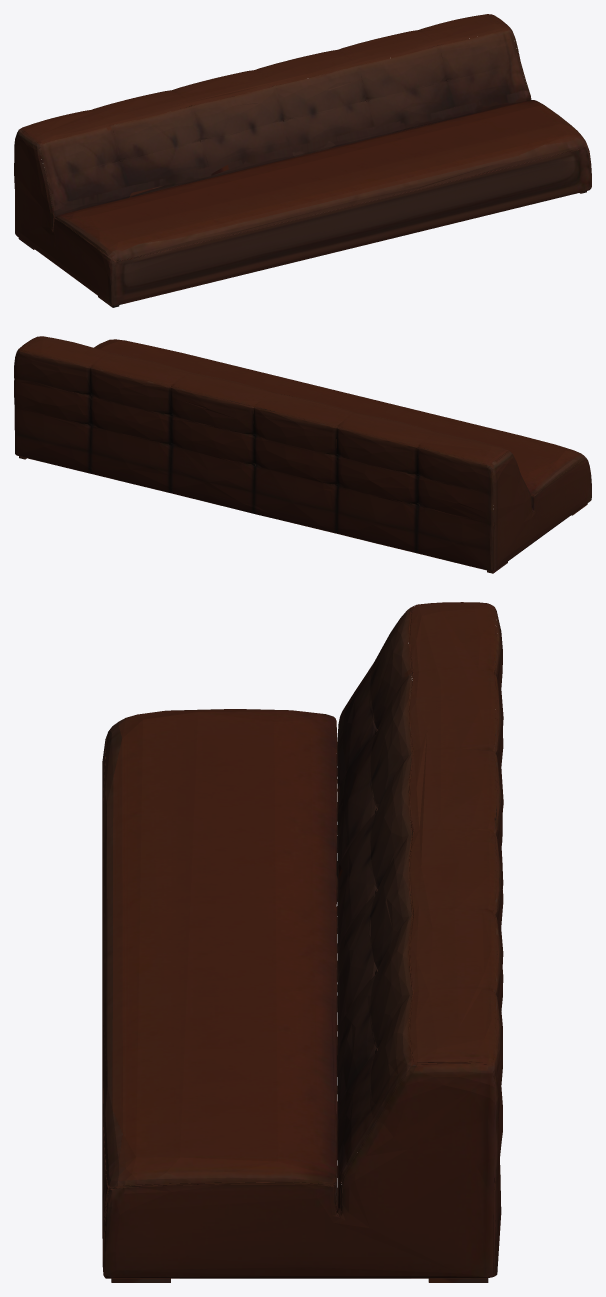
The model's file is edited_mesh.glb.
3 renders of one model, top to bottom at view 1: azimuth 30°, elevation 25°; view 2: azimuth 150°, elevation 25°; view 3: azimuth 270°, elevation 25°, orthographic. The views are drawn at different scales.
Visible parts, largest first — view 1: solid_001_wire; view 2: solid_001_wire; view 3: solid_001_wire.
Boxes of the visible parts, x1,y1,x2,y2 form: solid_001_wire: [14, 14, 591, 307]; solid_001_wire: [14, 336, 591, 573]; solid_001_wire: [102, 602, 503, 1282].
Size of the model in its own units: 2 by 0.4446 by 0.7213.
1 material, 1 textured.
